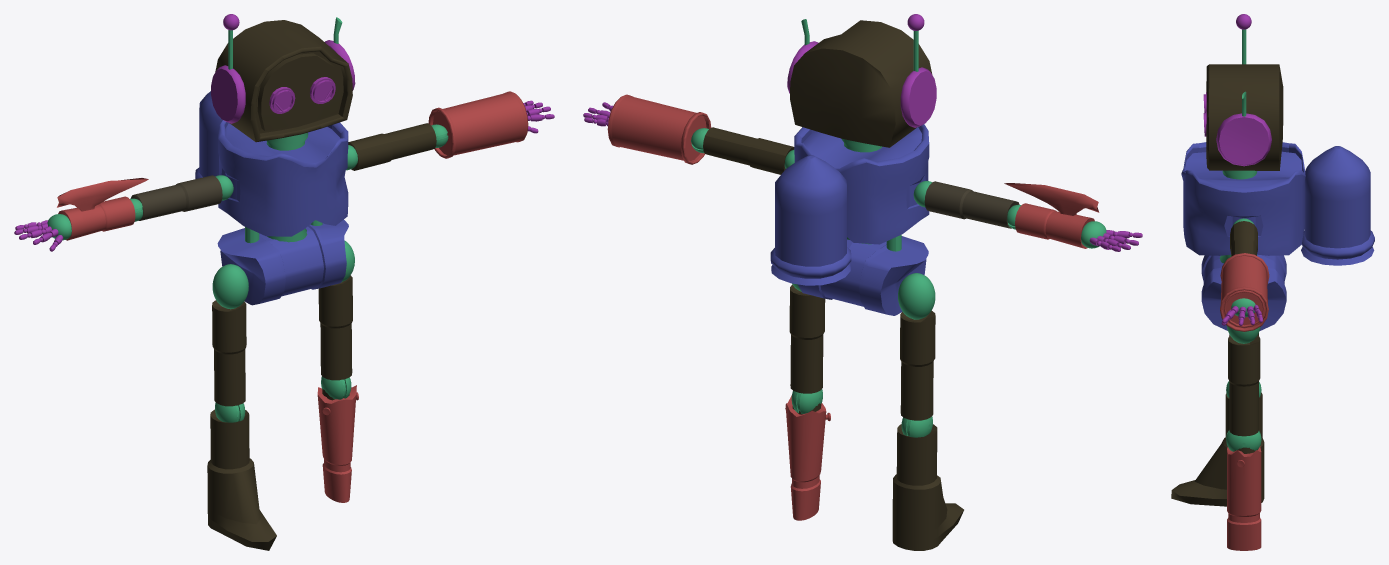
File: SubstancePainterTest-10.fbx
The picture shows the model from 3 angles, left to right: view 1: azimuth 30°, elevation 25°; view 2: azimuth 150°, elevation 25°; view 3: azimuth 270°, elevation 25°; orthographic projection. The views are drawn at different scales.
Visible parts, largest first — view 1: LeftArm_RightArm5; view 2: LeftArm_RightArm5; view 3: LeftArm_RightArm5.
Part boxes in pixels (<box>): LeftArm_RightArm5: <box>14,14,554,550</box>; LeftArm_RightArm5: <box>583,14,1142,550</box>; LeftArm_RightArm5: <box>1171,14,1374,550</box>.
Bounding box in the file's own units: 108 × 99.13 × 37.81.
